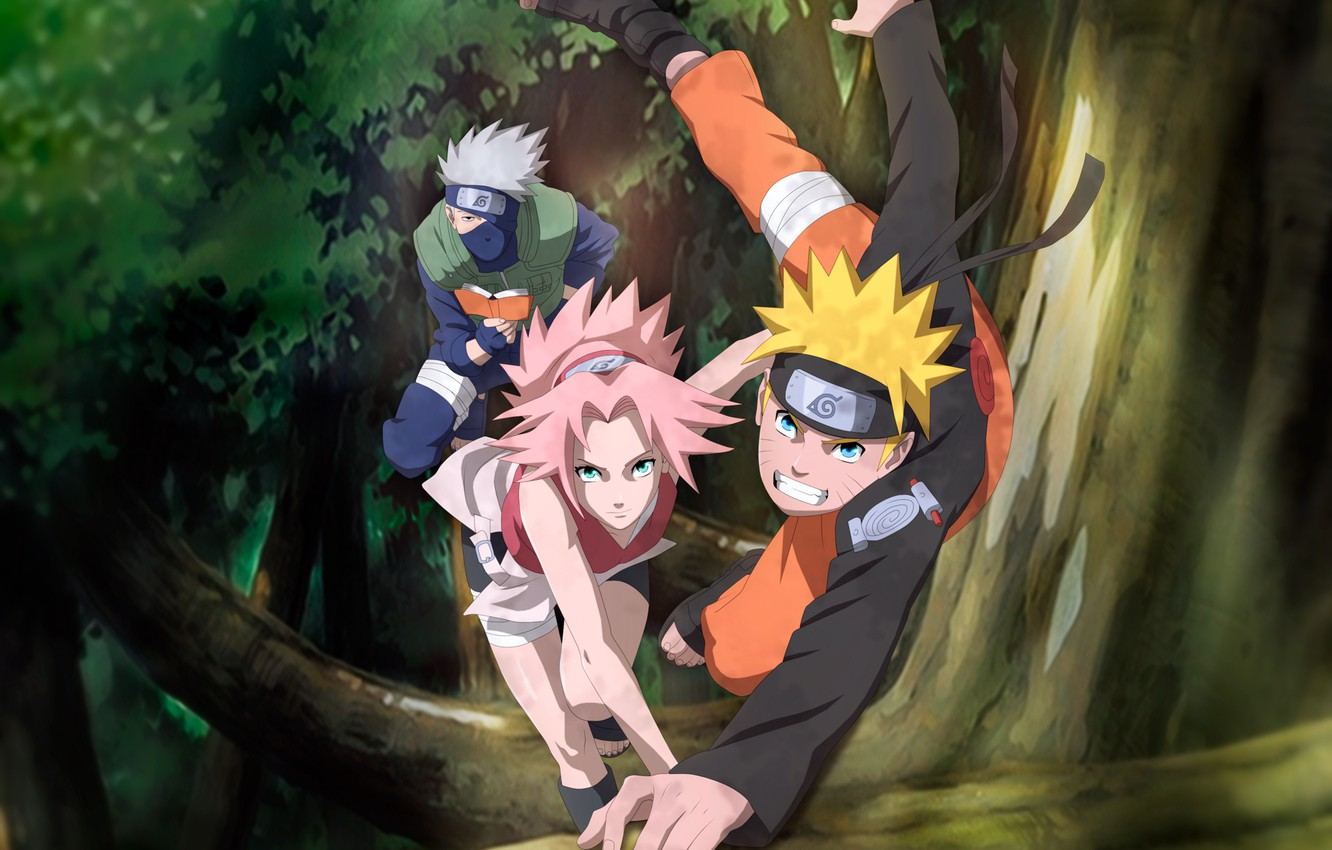kakashi: (437, 177, 526, 271)
naruto: (751, 346, 921, 514)
sakura: (541, 349, 669, 536)
